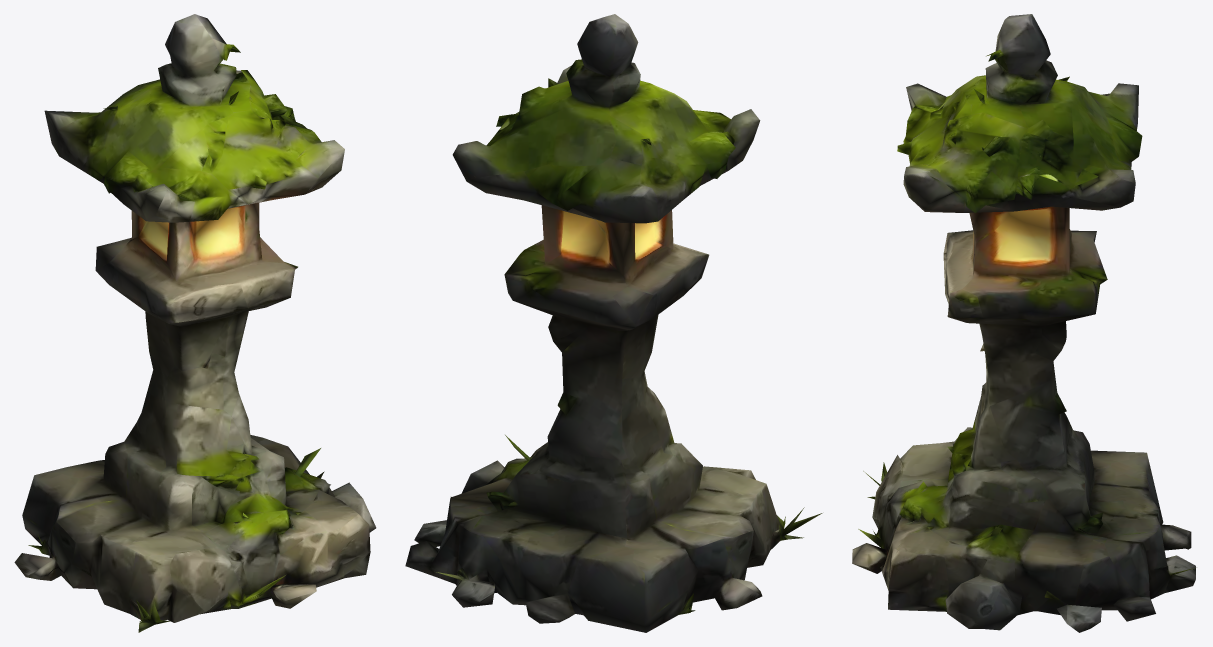
The model's file is y_toro.glb.
The picture shows the model from 3 angles, left to right: view 1: azimuth 30°, elevation 25°; view 2: azimuth 150°, elevation 25°; view 3: azimuth 270°, elevation 25°; orthographic projection.
Parts seen in each view (by area): view 1: tripo_node_e3c3de35-4bb5-4e47-9ab5-4147eccccb9a; view 2: tripo_node_e3c3de35-4bb5-4e47-9ab5-4147eccccb9a; view 3: tripo_node_e3c3de35-4bb5-4e47-9ab5-4147eccccb9a.
Part boxes in pixels (x1,y1,x2,y2): tripo_node_e3c3de35-4bb5-4e47-9ab5-4147eccccb9a: [14, 14, 376, 632]; tripo_node_e3c3de35-4bb5-4e47-9ab5-4147eccccb9a: [405, 14, 822, 632]; tripo_node_e3c3de35-4bb5-4e47-9ab5-4147eccccb9a: [852, 14, 1196, 632].
Size of the model in its own units: 0.6276 by 0.9999 by 0.579.
Materials: 1 (1 with a texture image).
